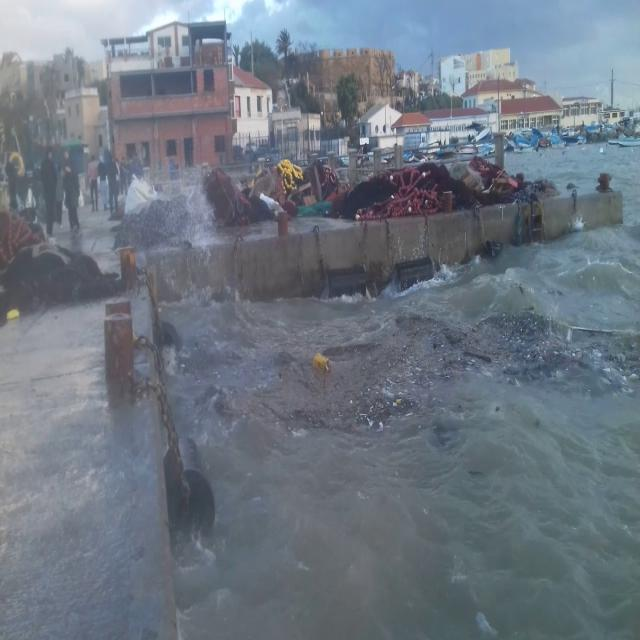Undefined trash: (199, 302, 639, 450)
